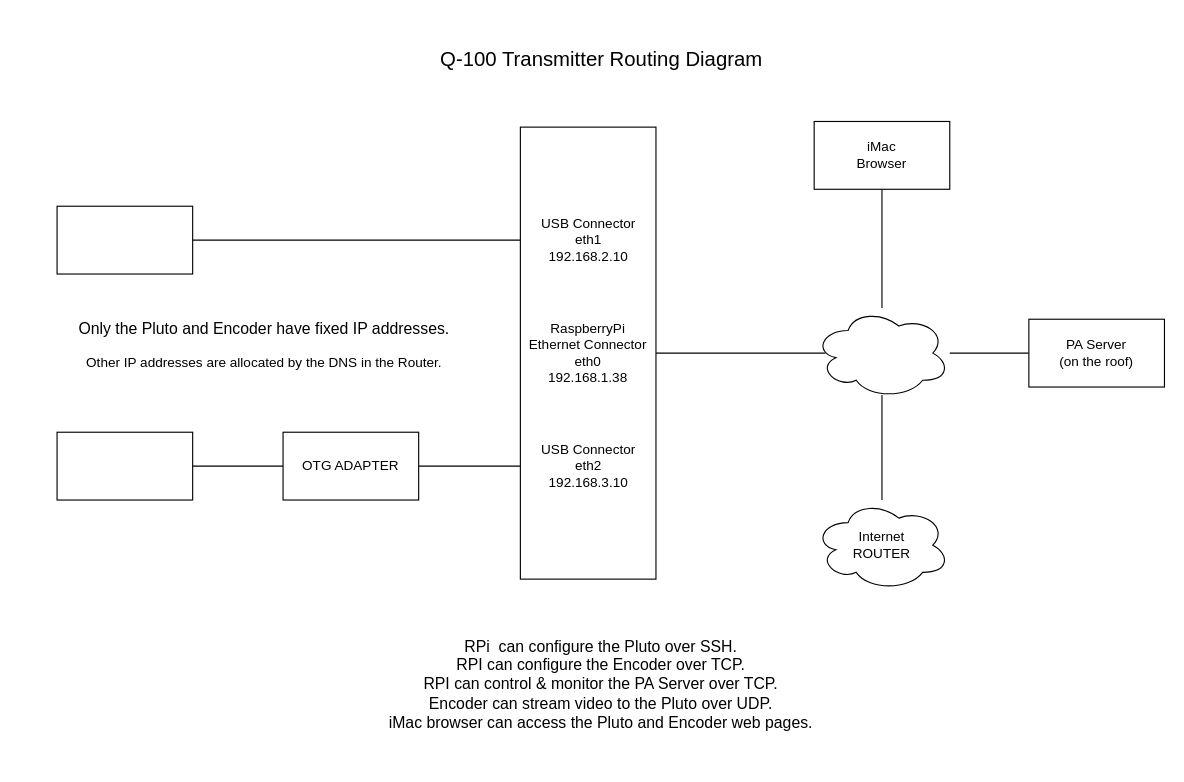
Some shapes in this 1184 by 782 pixel diagram are drawn without their labels. The centre of each missing label's shape, as x and y in pixels:
ENCODER 192.168.3.1: (x=124, y=465)
LAN 192.168.1.0: (x=881, y=352)
PLUTO 192.168.2.1: (x=124, y=239)
